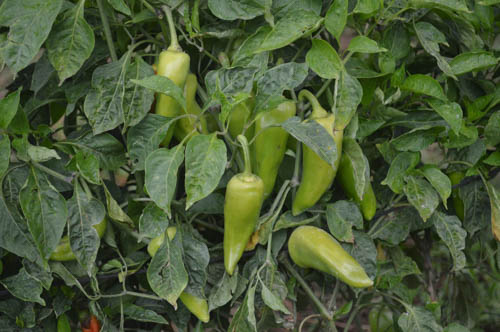ChiliPepper: (148, 230, 209, 318), (290, 116, 339, 217), (286, 227, 374, 283), (223, 179, 263, 275), (149, 50, 188, 143), (253, 100, 290, 191), (341, 157, 376, 218), (221, 95, 255, 155), (181, 103, 207, 142)
